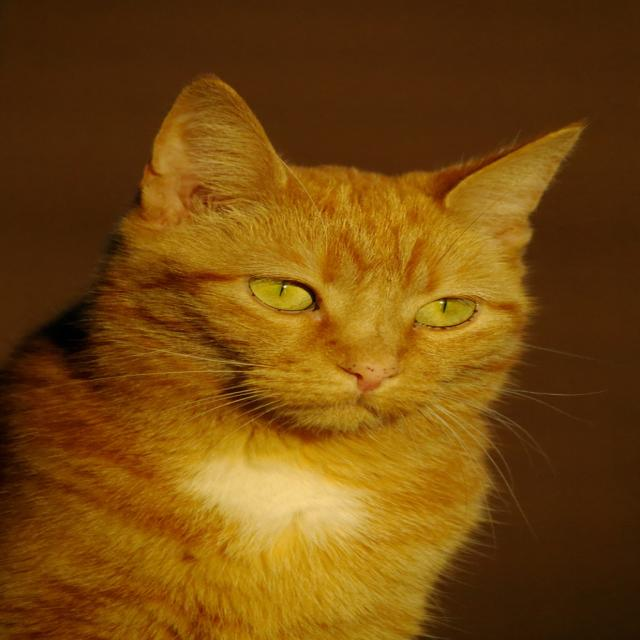Cat: (6, 61, 588, 640)
